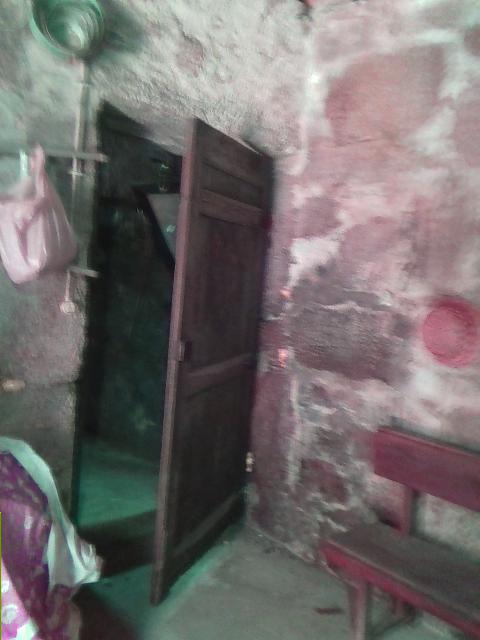semi_door: (70, 94, 273, 606)
